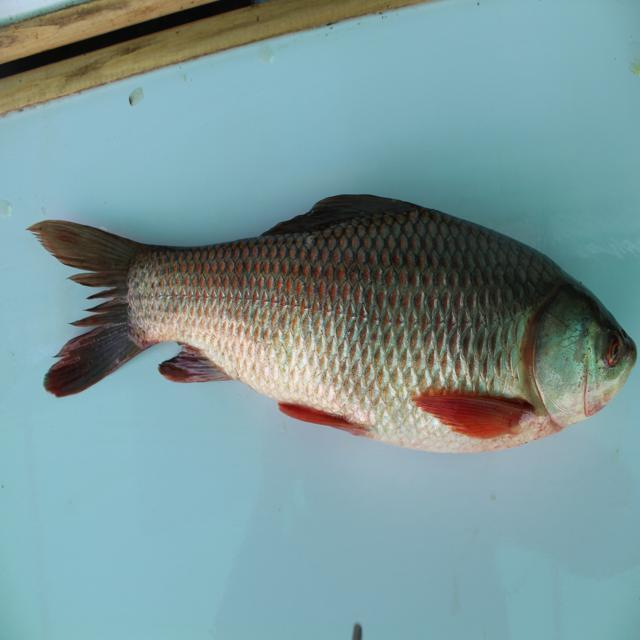Rohu: (22, 177, 640, 459)
